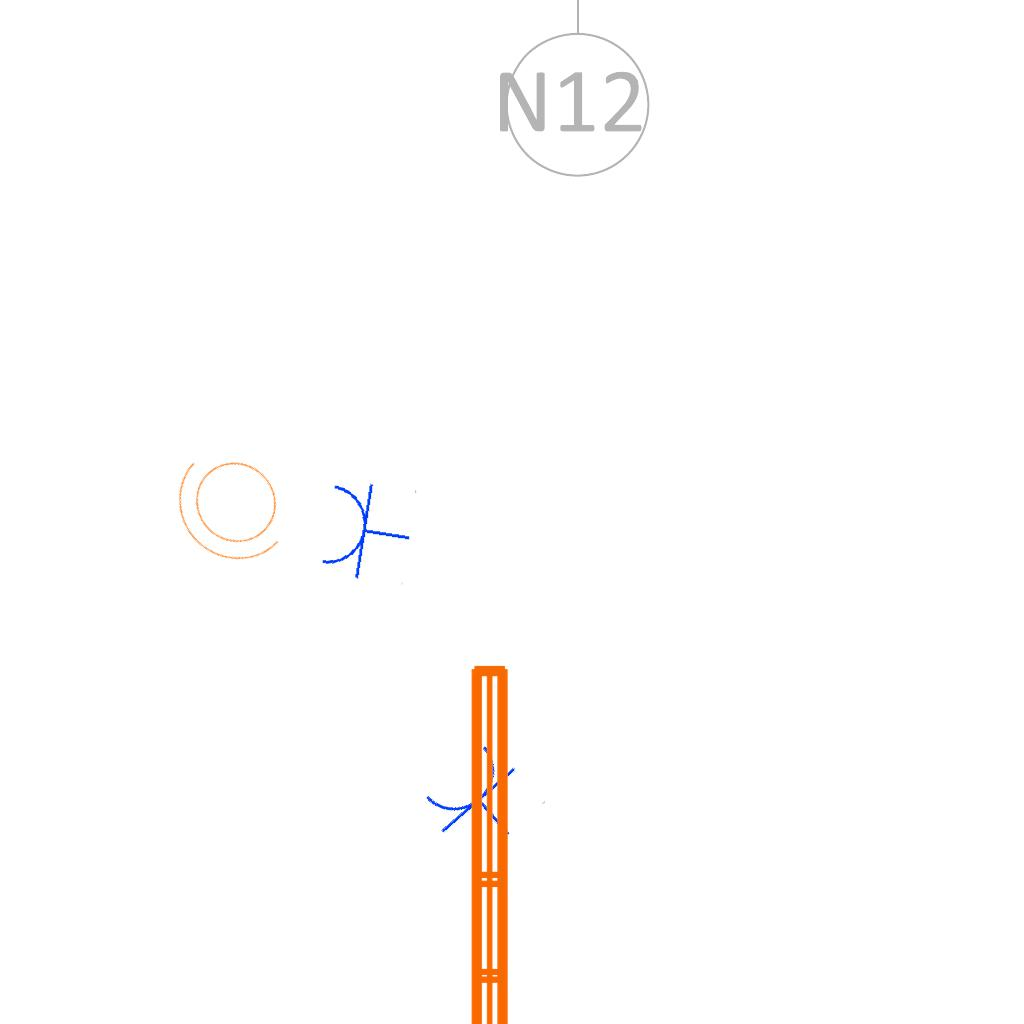Ambulanz_Pendelleuchte_LED: (459, 655, 571, 1024)
Scheinwerfer_fuer_Alarmbeleuchtung: (148, 422, 322, 594)
Schukosteckdose_einfach: (414, 735, 548, 868), (316, 474, 418, 587)
